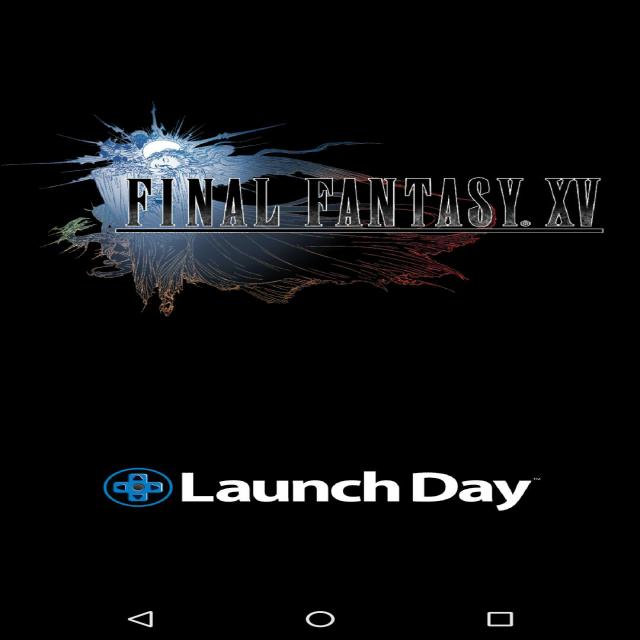button: (94, 462, 558, 526), (116, 597, 537, 628)
image: (10, 100, 627, 307)
